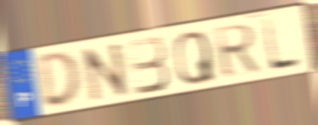B: (126, 35, 172, 97)
D: (36, 49, 83, 109)
L: (261, 16, 303, 73)
N: (79, 40, 131, 104)
Q: (172, 29, 217, 86)
R: (212, 22, 263, 81)
